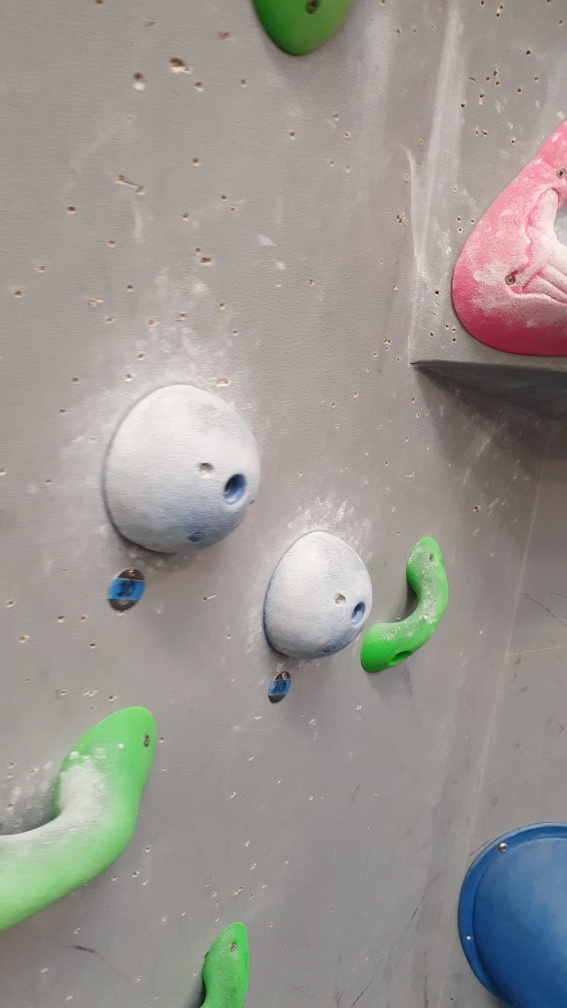Hand Start: (106, 560, 149, 618), (265, 669, 292, 707)
Pocket: (450, 109, 567, 360)
Sloper: (105, 384, 263, 559), (262, 526, 372, 664)
